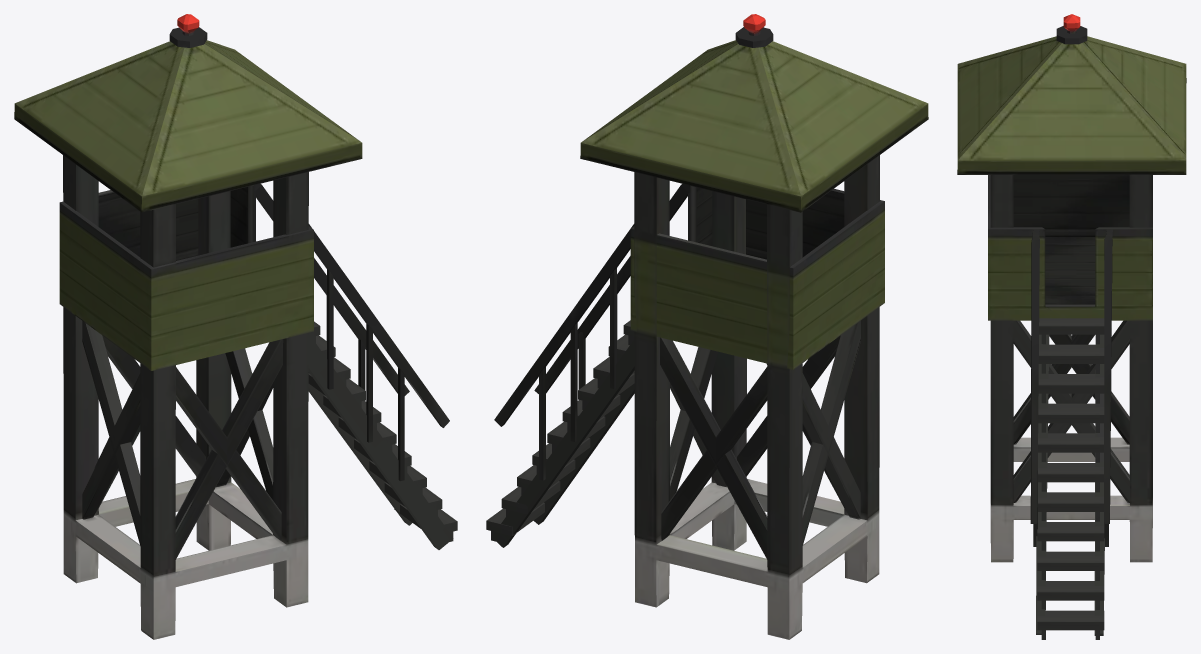
File: prop_watchtower.glb
3 views of the same model, side by side, from view 1: azimuth 30°, elevation 25°; view 2: azimuth 150°, elevation 25°; view 3: azimuth 270°, elevation 25° (orthographic). The views are drawn at different scales.
Parts seen in each view (by area): view 1: Tower; view 2: Tower; view 3: Tower.
Boxes of the visible parts, x1,y1,x2,y2 form: Tower: (14,14,457,639); Tower: (486,14,928,639); Tower: (957,14,1186,639).
Size of the model in its own units: 3.2 by 4.9 by 1.96.
1 material, 1 textured.
